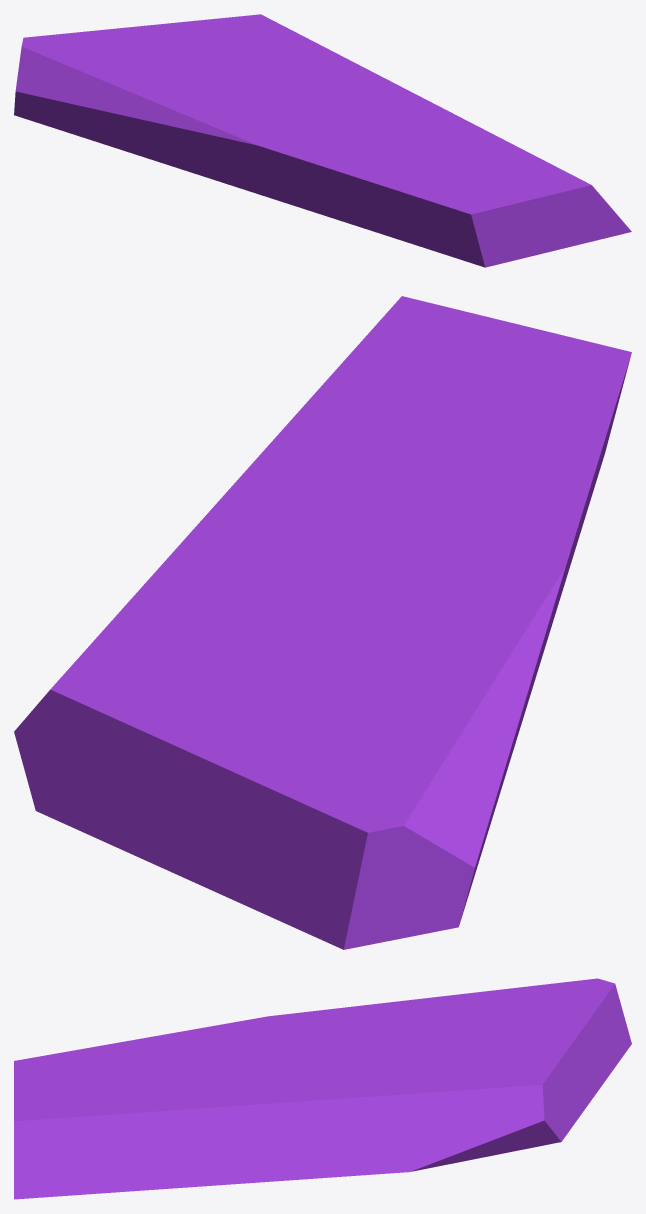
Rendered from Glass_106_3_chunks.fbx.
3 views of the same model, one above another, from view 1: azimuth 30°, elevation 25°; view 2: azimuth 150°, elevation 25°; view 3: azimuth 270°, elevation 25° (orthographic). The views are drawn at different scales.
Parts seen in each view (by area): view 1: Glass_106_3_3, Glass_106_3_0, Glass_106_3_2, Glass_106_3_1, Glass_106_3_5, Glass_106_3_6; view 2: Glass_106_3_1, Glass_106_3_0, Glass_106_3_3, Glass_106_3_2, Glass_106_3_5, Glass_106_3_6; view 3: Glass_106_3_1, Glass_106_3_5, Glass_106_3_3, Glass_106_3_2, Glass_106_3_0, Glass_106_3_6, Glass_106_3_4.
Part boxes in pixels (x1,y1,x2,y2): Glass_106_3_3: [329, 140, 631, 267]; Glass_106_3_0: [14, 35, 258, 194]; Glass_106_3_2: [163, 79, 346, 189]; Glass_106_3_1: [53, 14, 365, 85]; Glass_106_3_5: [332, 68, 524, 150]; Glass_106_3_6: [258, 77, 389, 216]; Glass_106_3_1: [14, 564, 362, 911]; Glass_106_3_0: [258, 669, 536, 949]; Glass_106_3_3: [332, 296, 631, 604]; Glass_106_3_2: [291, 477, 593, 671]; Glass_106_3_5: [162, 374, 421, 579]; Glass_106_3_6: [229, 479, 584, 676]; Glass_106_3_1: [371, 996, 612, 1172]; Glass_106_3_5: [115, 1068, 396, 1192]; Glass_106_3_3: [14, 1035, 210, 1199]; Glass_106_3_2: [163, 1001, 435, 1062]; Glass_106_3_0: [401, 978, 631, 1070]; Glass_106_3_6: [177, 1037, 372, 1079]; Glass_106_3_4: [357, 1155, 403, 1175].
Bounding box in the file's own units: 573 × 89.14 × 860.
